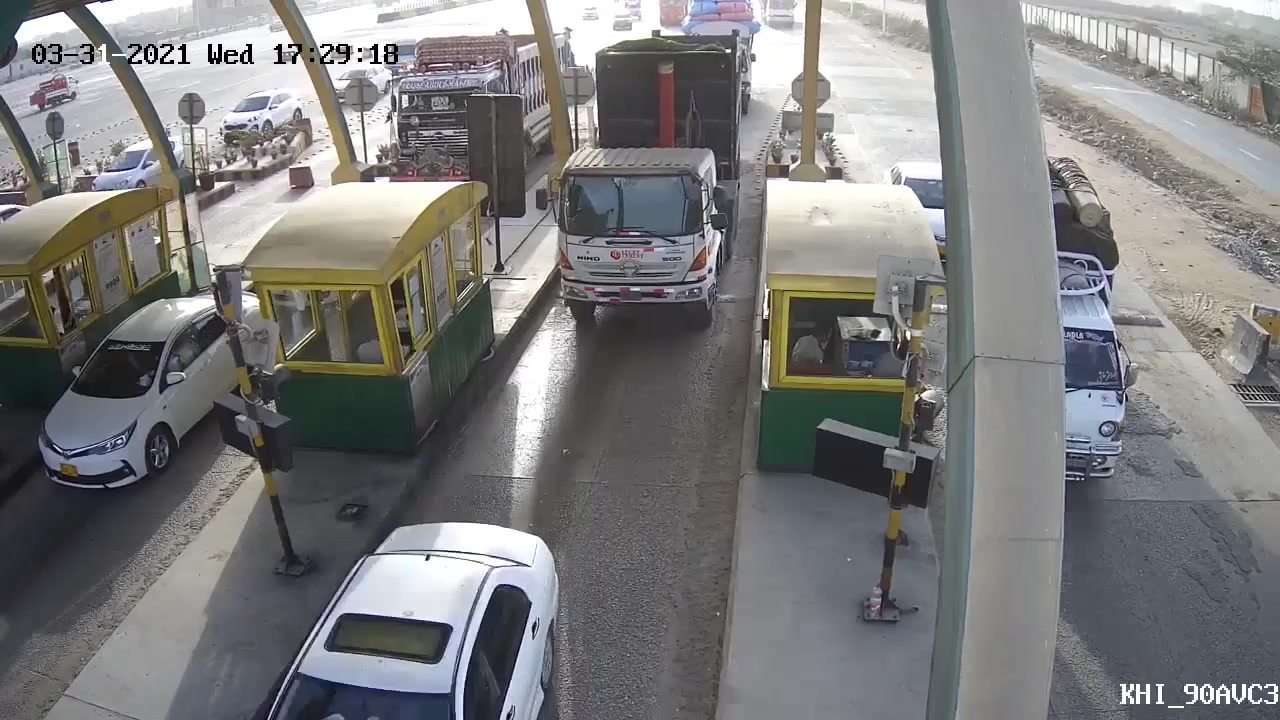F6: (548, 27, 757, 334)
